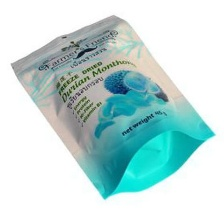snack: (5, 9, 221, 203)
